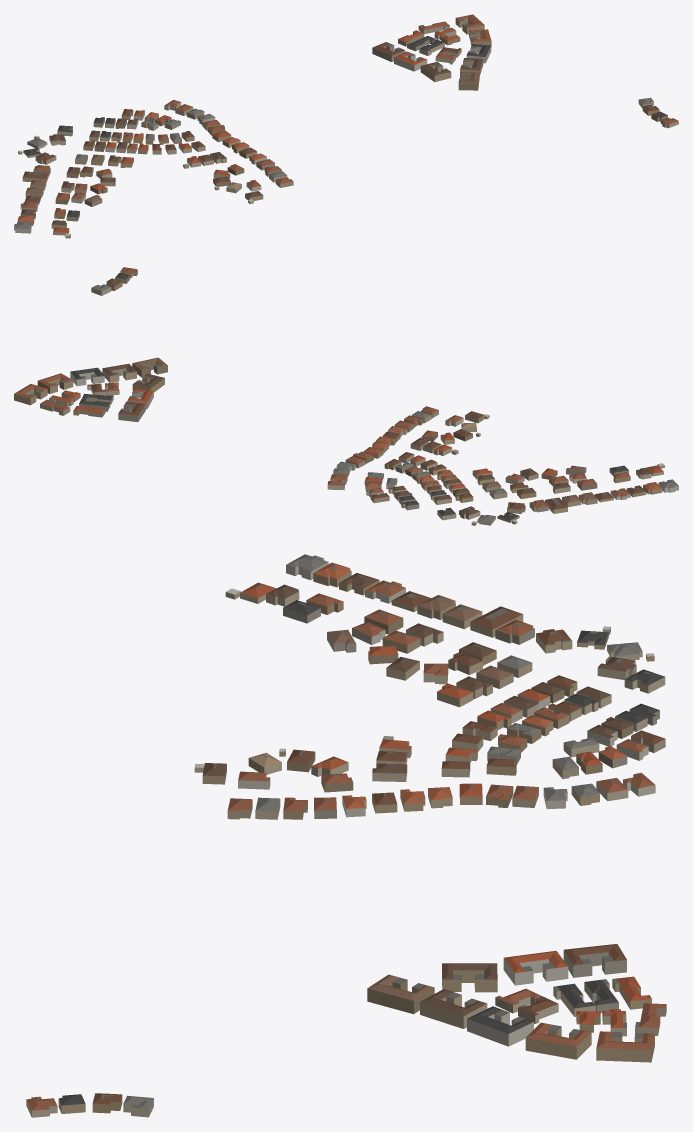
3 views of the same model, one above another, from view 1: azimuth 30°, elevation 25°; view 2: azimuth 150°, elevation 25°; view 3: azimuth 270°, elevation 25° (orthographic). The views are drawn at different scales.
Parts seen in each view (by area): view 1: buildings_r5_c3_lod1; view 2: buildings_r5_c3_lod1; view 3: buildings_r5_c3_lod1.
Part boxes in pixels (x1,y1,x2,y2): buildings_r5_c3_lod1: (14,14,678,238); buildings_r5_c3_lod1: (14,267,678,525); buildings_r5_c3_lod1: (26,554,666,1117).
Size of the model in its own units: 983 by 40.18 by 457.
